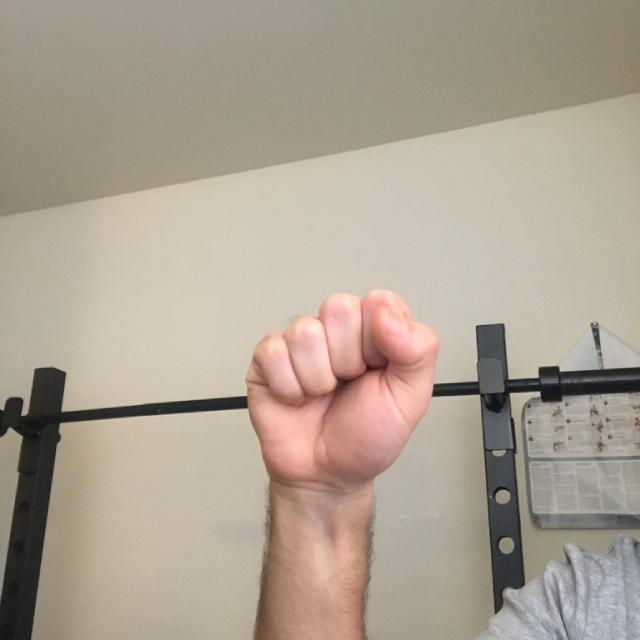S: (222, 260, 487, 531)
